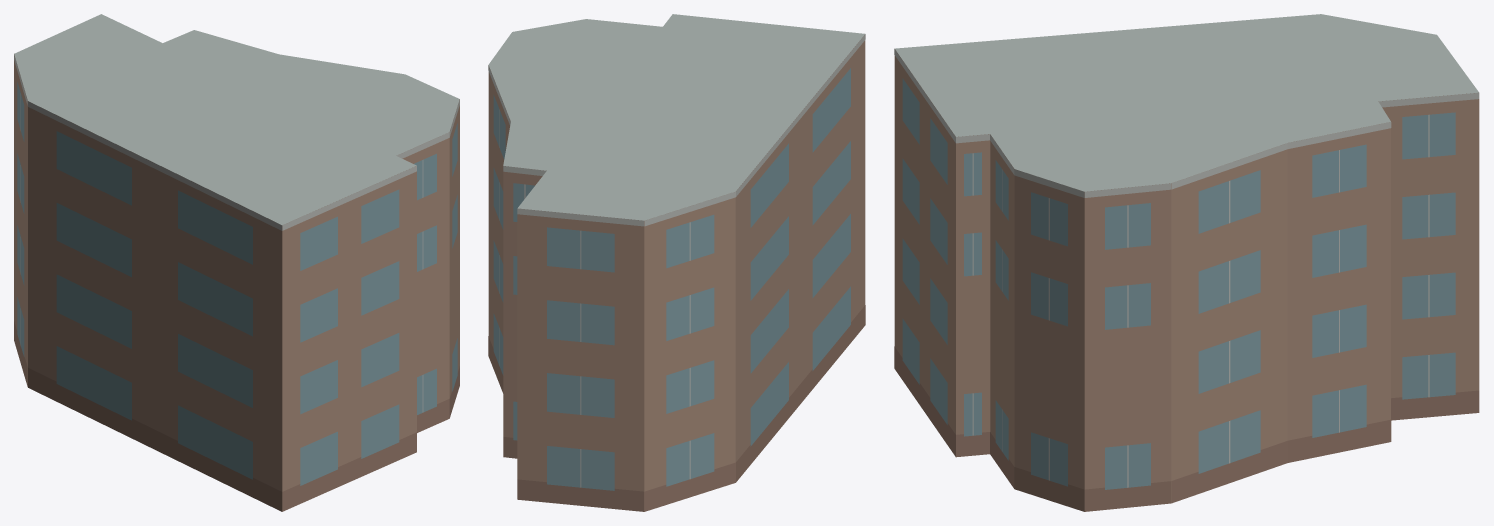
File: survey-upis-32765345.glb
3 views of the same model, side by side, from view 1: azimuth 30°, elevation 25°; view 2: azimuth 150°, elevation 25°; view 3: azimuth 270°, elevation 25° (orthographic). The views are drawn at different scales.
Visible parts, largest first — view 1: survey-upis-32765345.tmp; view 2: survey-upis-32765345.tmp; view 3: survey-upis-32765345.tmp.
Part boxes in pixels (bbox=[...]): survey-upis-32765345.tmp: bbox=[14, 14, 459, 511]; survey-upis-32765345.tmp: bbox=[488, 14, 865, 511]; survey-upis-32765345.tmp: bbox=[894, 14, 1479, 511].
Bounding box in the file's own units: 14.53 × 12.2 × 20.2.
